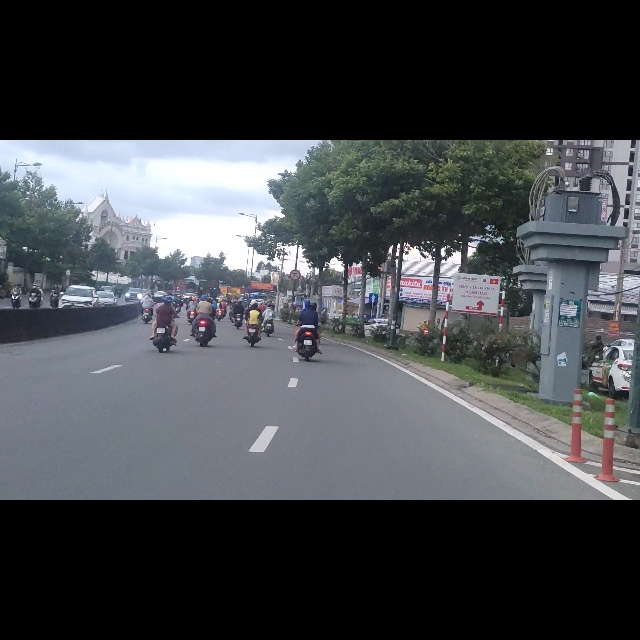bien_cam: (290, 230, 301, 250), (369, 271, 379, 290)
